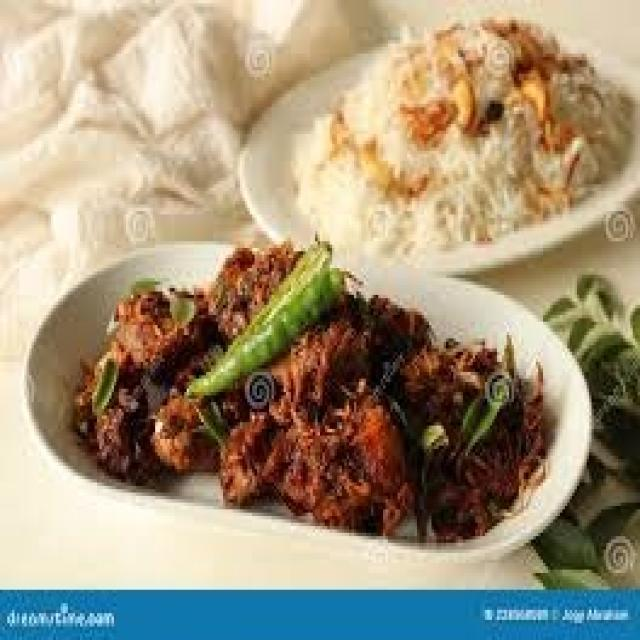nei satham: (315, 7, 625, 216)
